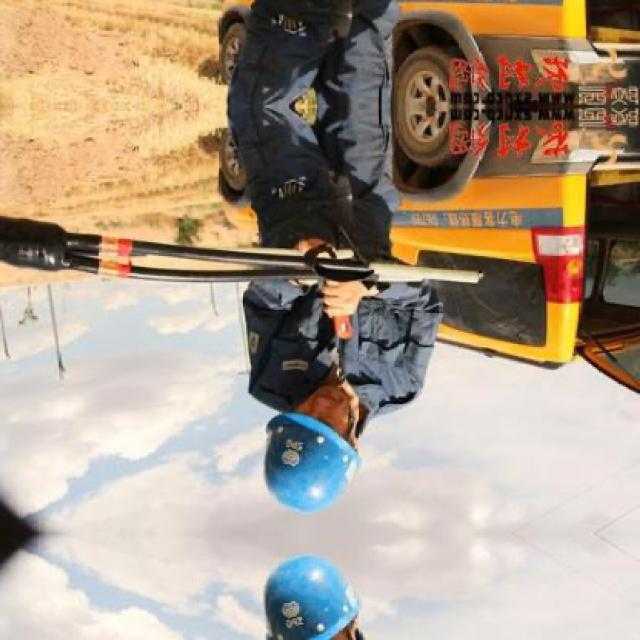con casco: (234, 393, 382, 531)
